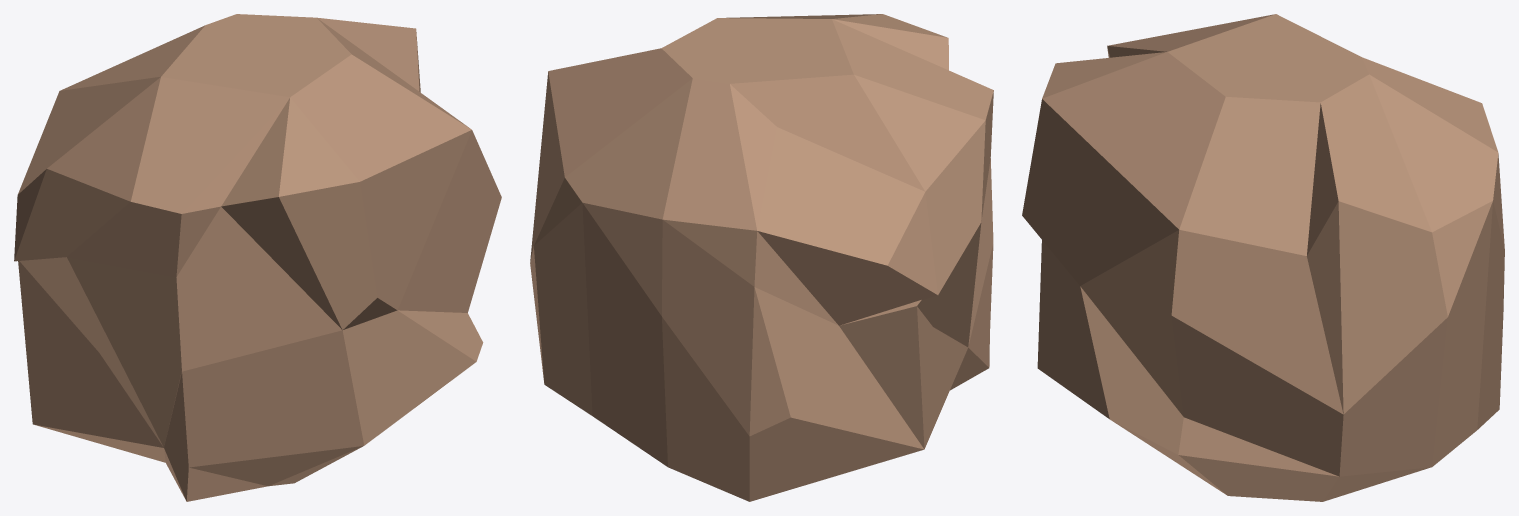
File: roca_pequeña.fbx
The picture shows the model from 3 angles, left to right: view 1: azimuth 30°, elevation 25°; view 2: azimuth 150°, elevation 25°; view 3: azimuth 270°, elevation 25°; orthographic projection. The views are drawn at different scales.
Parts seen in each view (by area): view 1: roca_3; view 2: roca_3; view 3: roca_3.
Boxes of the visible parts, box(x1,y1,x2,y2) form: roca_3: box(14, 14, 501, 501); roca_3: box(530, 14, 993, 501); roca_3: box(1022, 14, 1504, 501).
Bounding box in the file's own units: 2.45 × 2.16 × 2.39.
